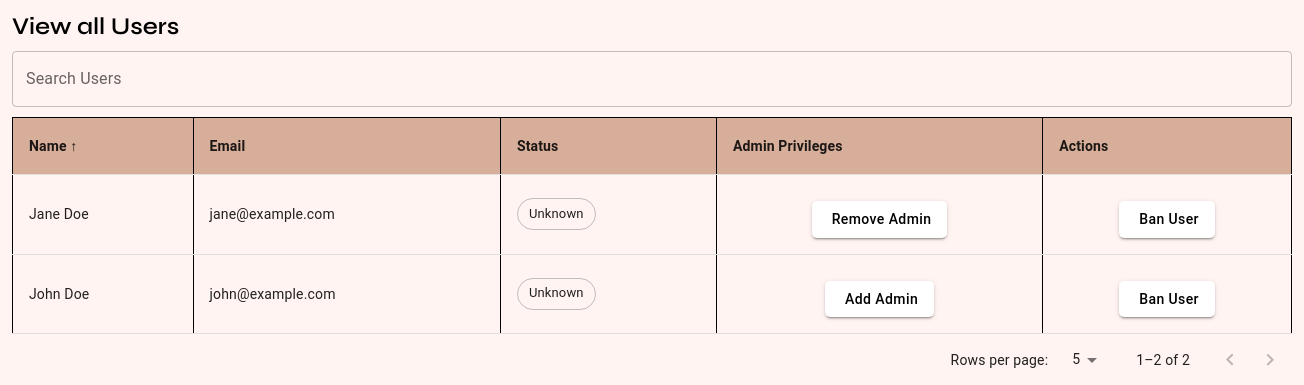
Test: ViewUsers › searches for users based on input
In the field labelled "Search Users": (652, 79) [12,51,1292,107], type "John"
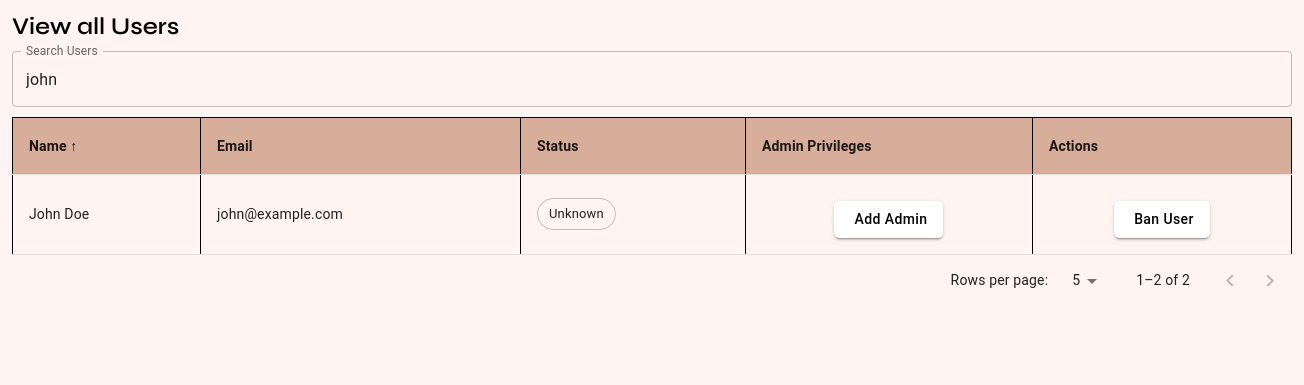
expect the text "John Doe" is shown: met, box [12,174,200,254]
expect the text "Jane Doe" is gone: met
